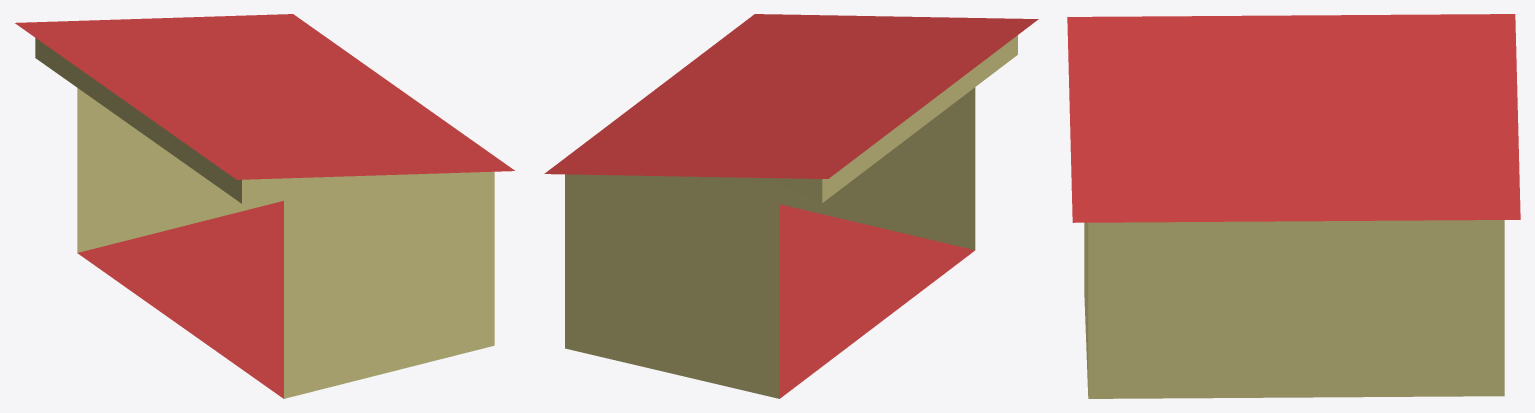
3 views of the same model, side by side, from view 1: azimuth 30°, elevation 25°; view 2: azimuth 150°, elevation 25°; view 3: azimuth 270°, elevation 25° (orthographic). The views are drawn at different scales.
Size of the model in its own units: 10.79 by 14.25 by 8.56.
